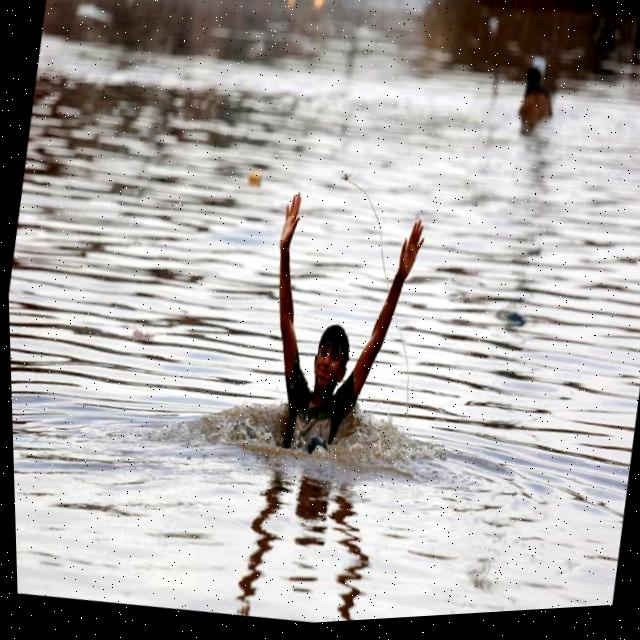civilian: (218, 178, 444, 475)
